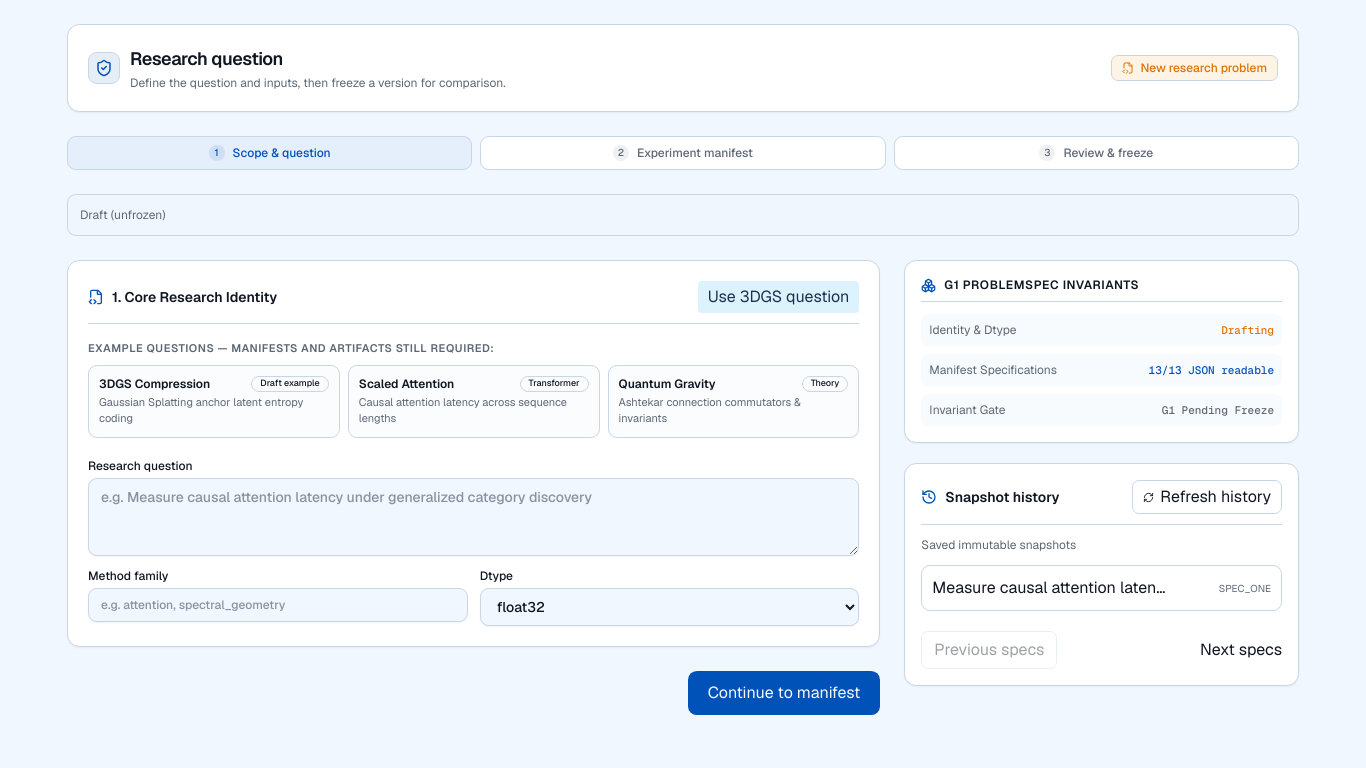
ProblemSpec persistence workflow › does not expose wizard navigation for an immutable snapshot
Click the button "Measure causal attention latency · v1 · spec_one spec_one" at (1102, 588), box [921,565,1282,611]
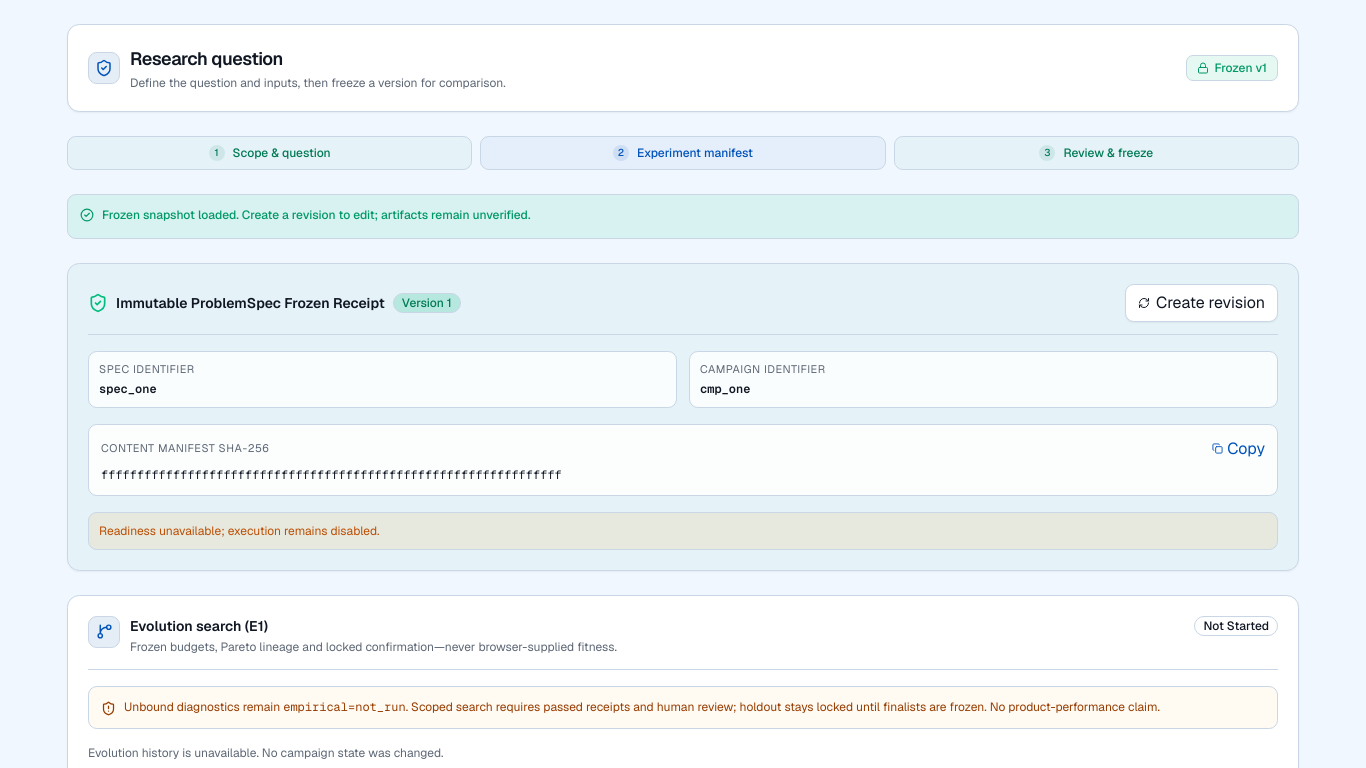
Now the button "Create revision" is shown, box [1125,284,1278,322]
